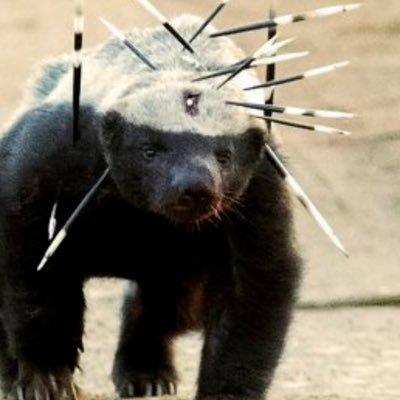badger: (6, 20, 301, 394)
